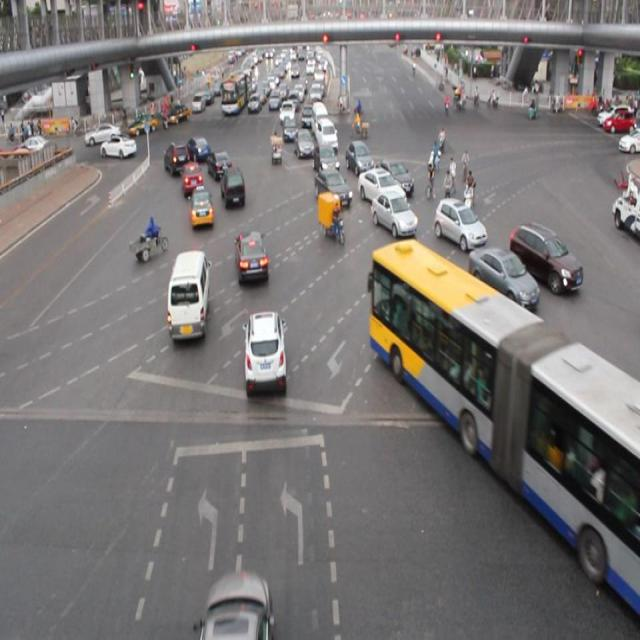car: (508, 223, 582, 288), (204, 572, 271, 640), (465, 245, 537, 308), (243, 311, 288, 393), (434, 196, 486, 248), (357, 167, 408, 209), (370, 188, 415, 234), (235, 229, 269, 283), (375, 159, 414, 195), (314, 170, 350, 208), (188, 186, 215, 229), (344, 140, 375, 175), (220, 167, 244, 211), (164, 139, 190, 177), (101, 134, 136, 159), (313, 140, 338, 175), (207, 147, 232, 180), (180, 162, 202, 197), (293, 128, 314, 160), (187, 134, 210, 160)
truck: (166, 249, 212, 344)
van: (369, 241, 640, 615)
